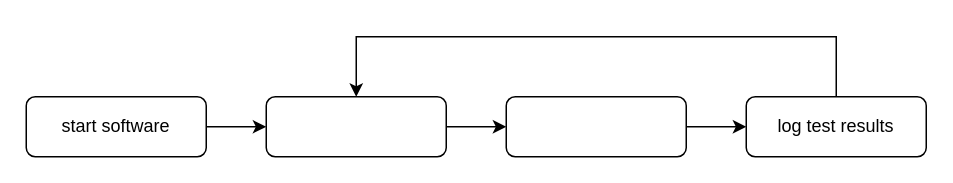
Some shapes in this 953 by 183 pixel diagram are drawn without their labels. Here are the shapes that lost their labels. From the top down, the centre of each, then its label:
(355,126): scan barcode
(595,126): run tests
